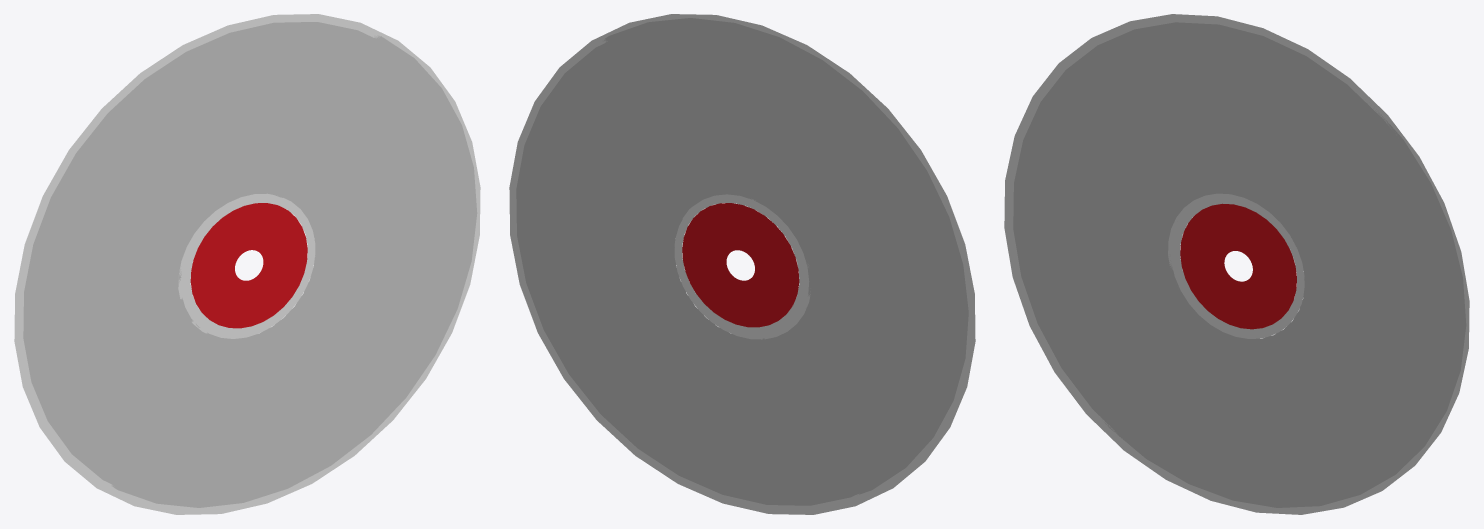
File: base.4add36ea.glb
3 views of the same model, side by side, from view 1: azimuth 30°, elevation 25°; view 2: azimuth 150°, elevation 25°; view 3: azimuth 330°, elevation 25° (orthographic).
Visible parts, largest first — view 1: shadeBlack, shadeBlack.001, shadeRed, shadeBlack.002; view 2: shadeBlack, shadeBlack.001, shadeRed, shadeBlack.002; view 3: shadeBlack, shadeBlack.001, shadeRed, shadeBlack.002.
Boxes of the visible parts, x1,y1,x2,y2 form: shadeBlack: (23,22,477,507); shadeBlack.001: (14,14,480,514); shadeRed: (190,203,307,328); shadeBlack.002: (178,193,315,338); shadeBlack: (516,18,968,505); shadeBlack.001: (509,14,975,514); shadeRed: (682,203,799,327); shadeBlack.002: (674,194,810,339); shadeBlack: (1013,22,1466,507); shadeBlack.001: (1004,14,1469,514); shadeRed: (1180,203,1296,329); shadeBlack.002: (1168,193,1304,338).
Size of the model in its own units: 4.98 by 4.98 by 0.0123.
